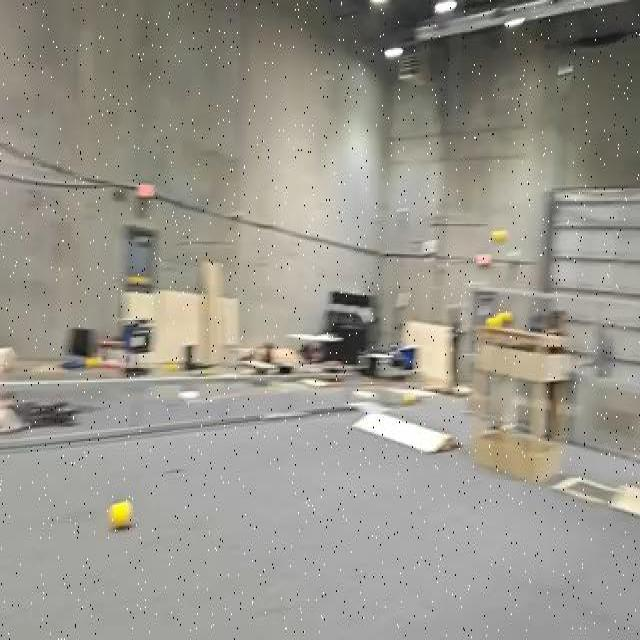Fuel: (108, 499, 133, 529), (108, 501, 132, 528), (490, 229, 509, 243), (492, 229, 507, 242)
